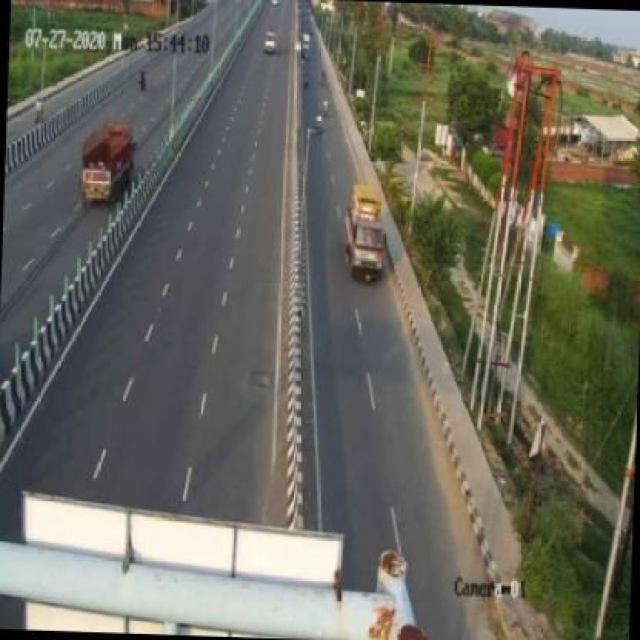car: (260, 29, 282, 57)
